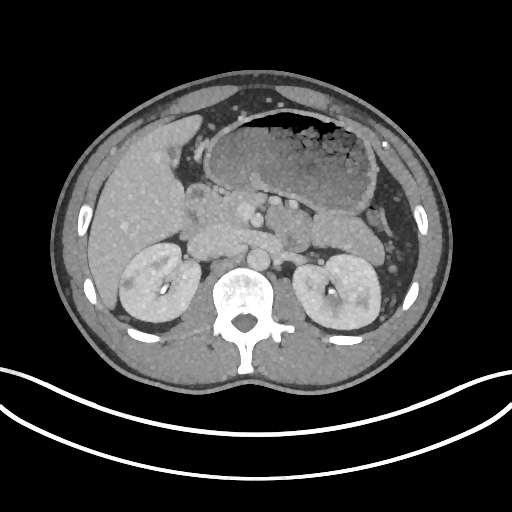Lesion: (118, 273, 138, 290)
